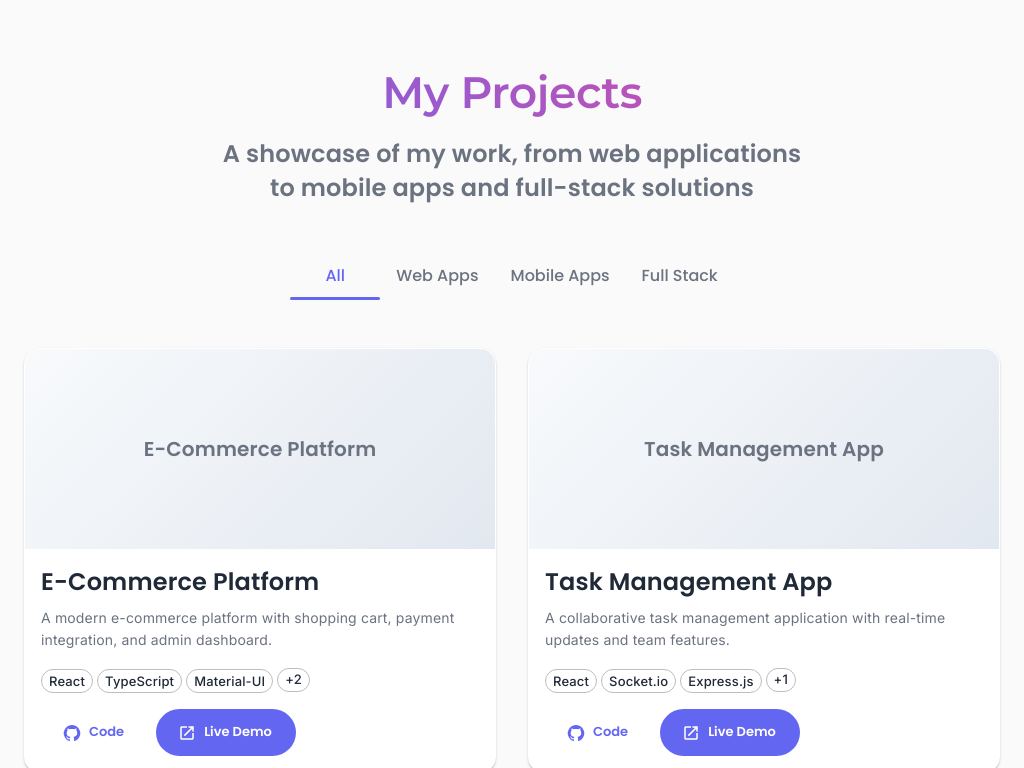
Test case: Projects Component › filter tabs work correctly
This screenshot has width=1024, height=768.
expect the number of headings "E-Commerce Platform" is 2: met, box [144,435,376,463]; [41,565,319,598]
Click on Mobile Apps tab
Click the tab "Mobile Apps" at {"x": 560, "y": 276}, box [494,252,626,300]
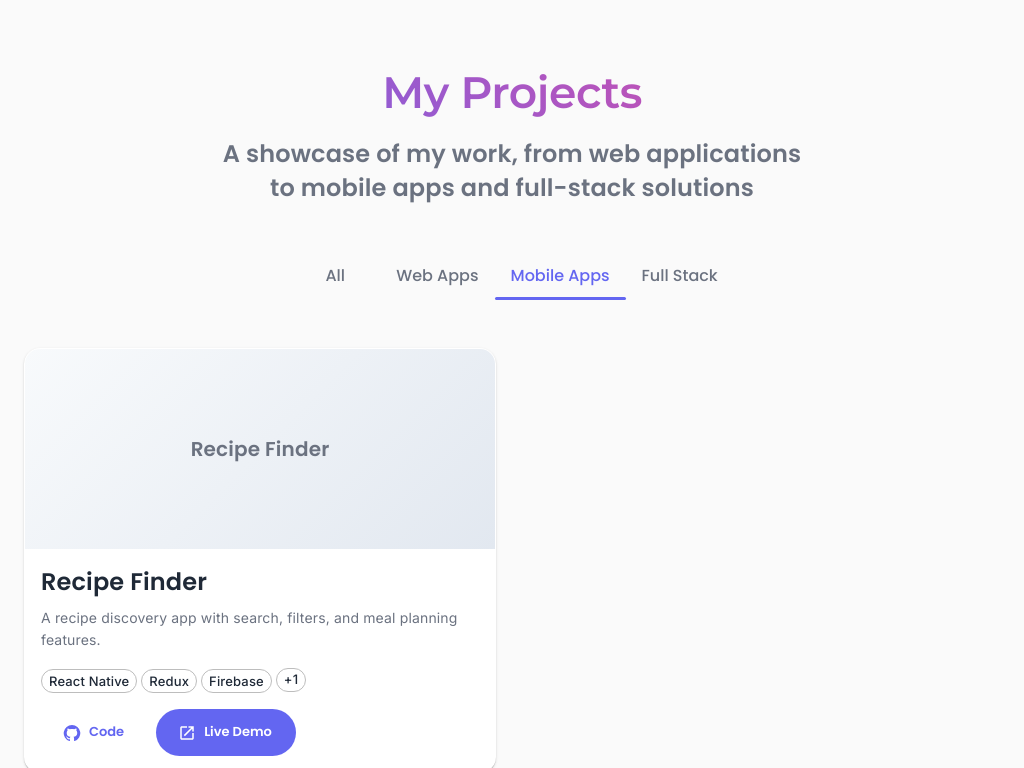
expect the number of headings "Recipe Finder" is 2: met, box [191,435,329,463]; [41,565,207,598]
expect the text "Weather Dashboard" is not shown: met
